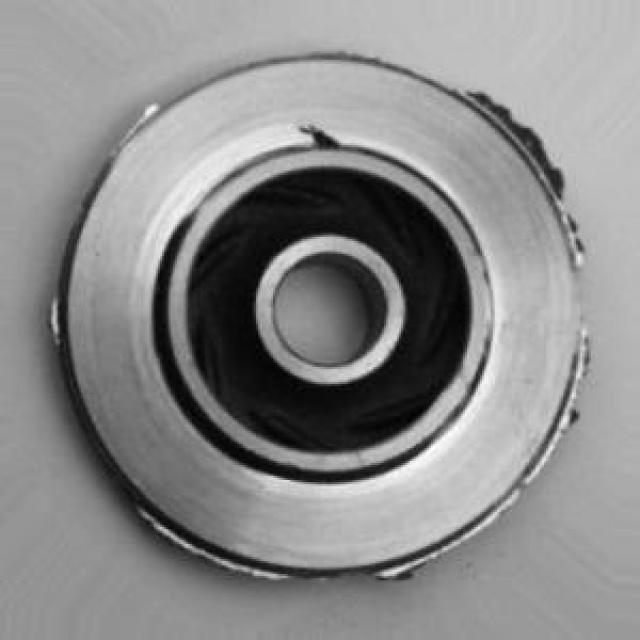Defect: (476, 82, 565, 182)
